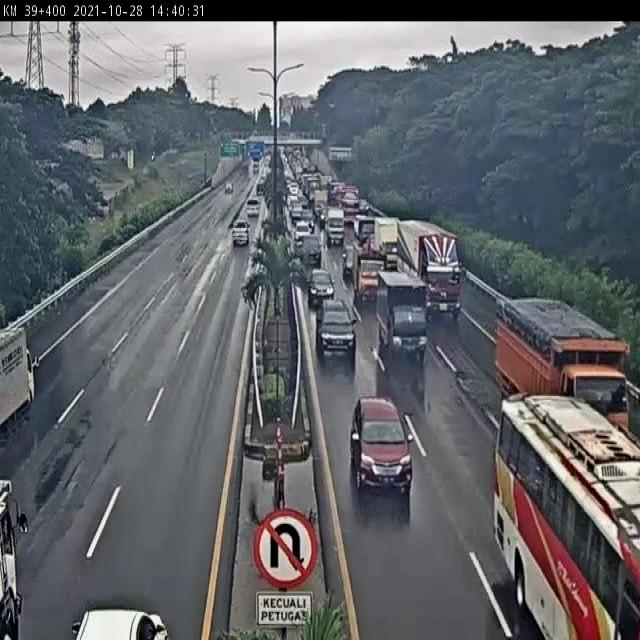Car: (351, 395, 416, 497), (69, 605, 176, 640), (314, 298, 359, 361), (304, 268, 338, 308), (294, 235, 322, 268), (231, 220, 250, 248), (340, 247, 355, 276), (245, 198, 261, 217), (292, 222, 310, 238)
Truck: (492, 292, 632, 434), (398, 220, 464, 323), (0, 323, 41, 447), (0, 478, 31, 640), (377, 268, 428, 359), (373, 214, 406, 266), (354, 250, 384, 302), (324, 206, 345, 248), (268, 267, 275, 271)
